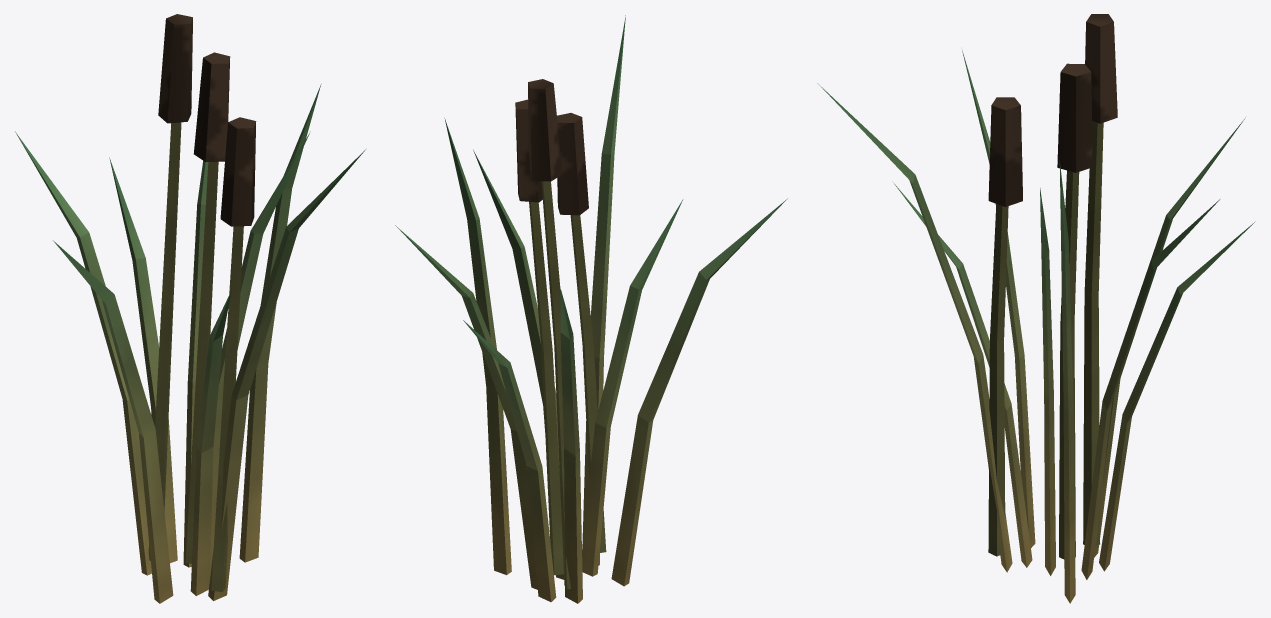
The model's file is reed_clump_c.glb.
The picture shows the model from 3 angles, left to right: view 1: azimuth 30°, elevation 25°; view 2: azimuth 150°, elevation 25°; view 3: azimuth 270°, elevation 25°; orthographic projection. The views are drawn at different scales.
Visible parts, largest first — view 1: reed_clump_c; view 2: reed_clump_c; view 3: reed_clump_c.
Part boxes in pixels (box(x1,y1,x2,y2)): reed_clump_c: box(15, 14, 365, 603); reed_clump_c: box(395, 15, 787, 603); reed_clump_c: box(817, 14, 1255, 603).
Bounding box in the file's own units: 1.32 × 2.15 × 1.55.
2 materials, 2 textured.
